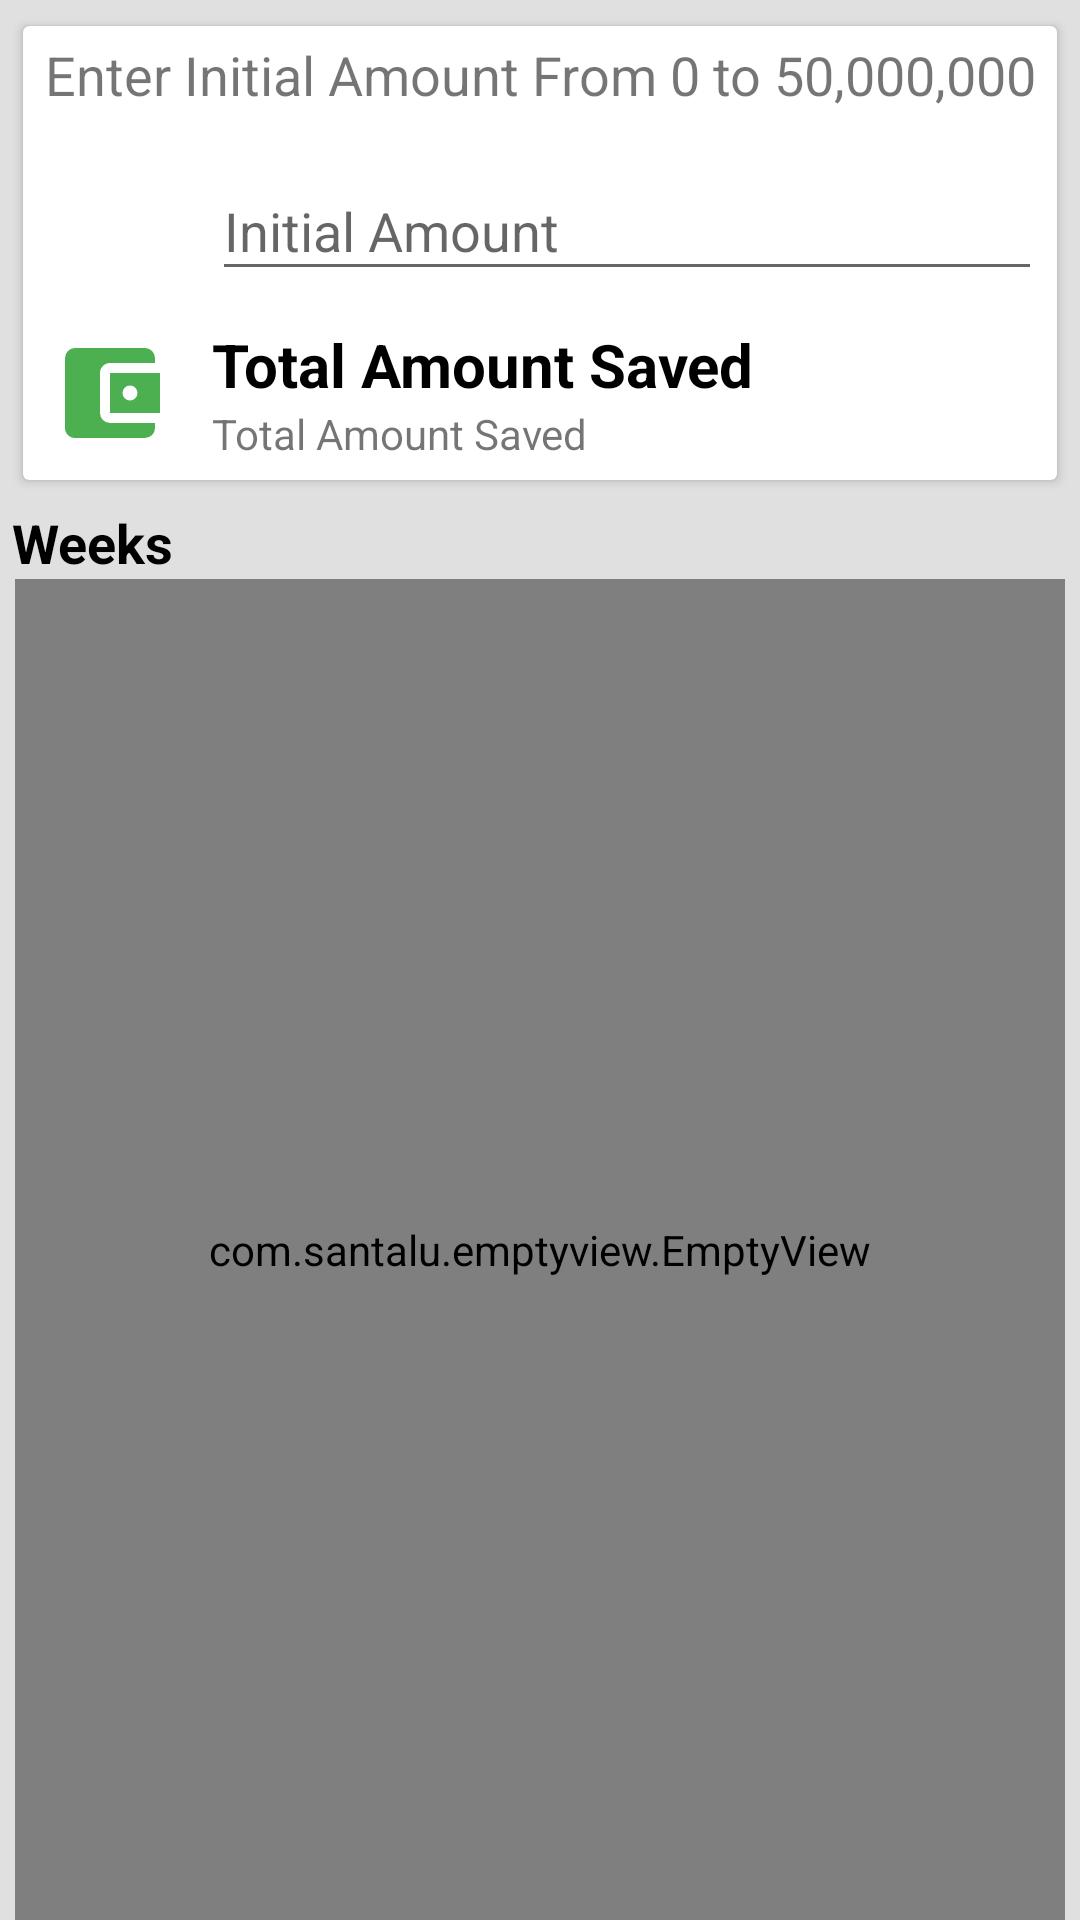

Screen size 1080px x 1920px. Icon name, then its box in pixels as (x1, y1, x2, y2):
wallet: (65, 348, 160, 438)
